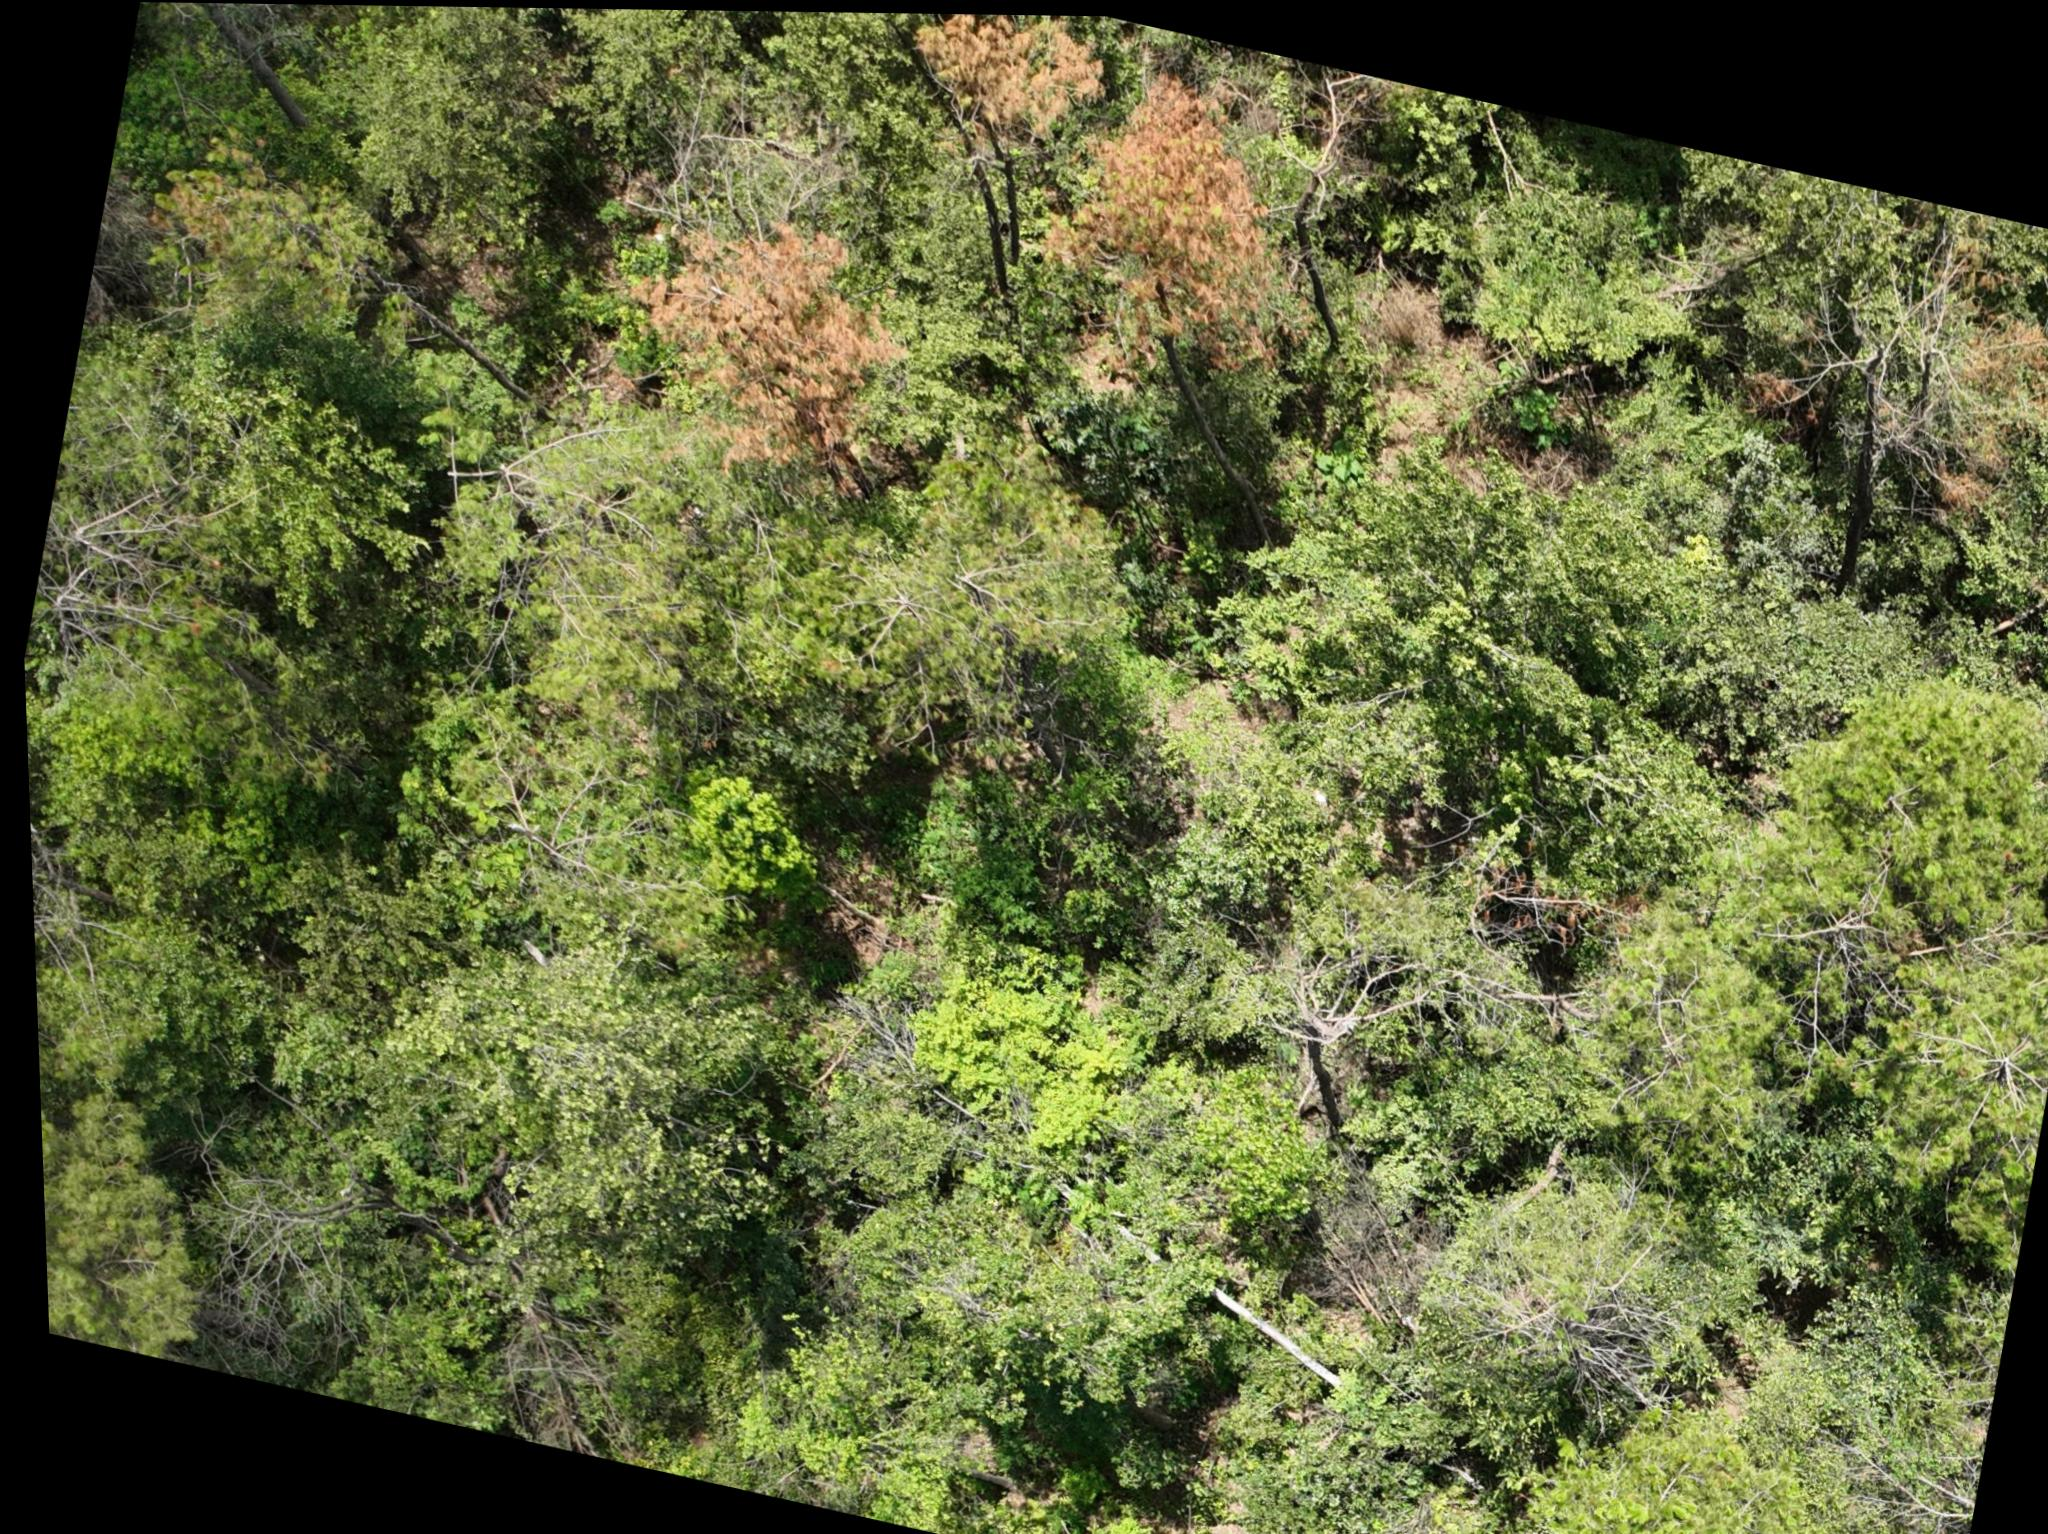heavy: (606, 189, 931, 496), (1052, 61, 1312, 435), (898, 10, 1123, 151)
light: (132, 114, 338, 306)
